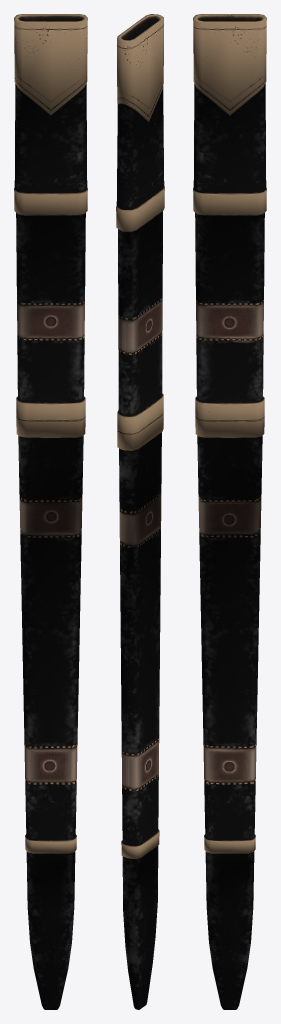
Rendered from SM_scabbards_06.fbx.
3 renders of one model, left to right at view 1: azimuth 90°, elevation 25°; view 2: azimuth 150°, elevation 25°; view 3: azimuth 270°, elevation 25°, orthographic.
Visible parts, largest first — view 1: SM_scabbards_06_LOD0; view 2: SM_scabbards_06_LOD0; view 3: SM_scabbards_06_LOD0.
Boxes of the visible parts, left/top/right/bottom form: SM_scabbards_06_LOD0: left=14, top=14, right=87, bottom=1009; SM_scabbards_06_LOD0: left=116, top=14, right=164, bottom=1009; SM_scabbards_06_LOD0: left=193, top=14, right=266, bottom=1009.
Bounding box in the file's own units: 2.12 × 6.56 × 97.35.
Materials: 1 (1 with a texture image).
